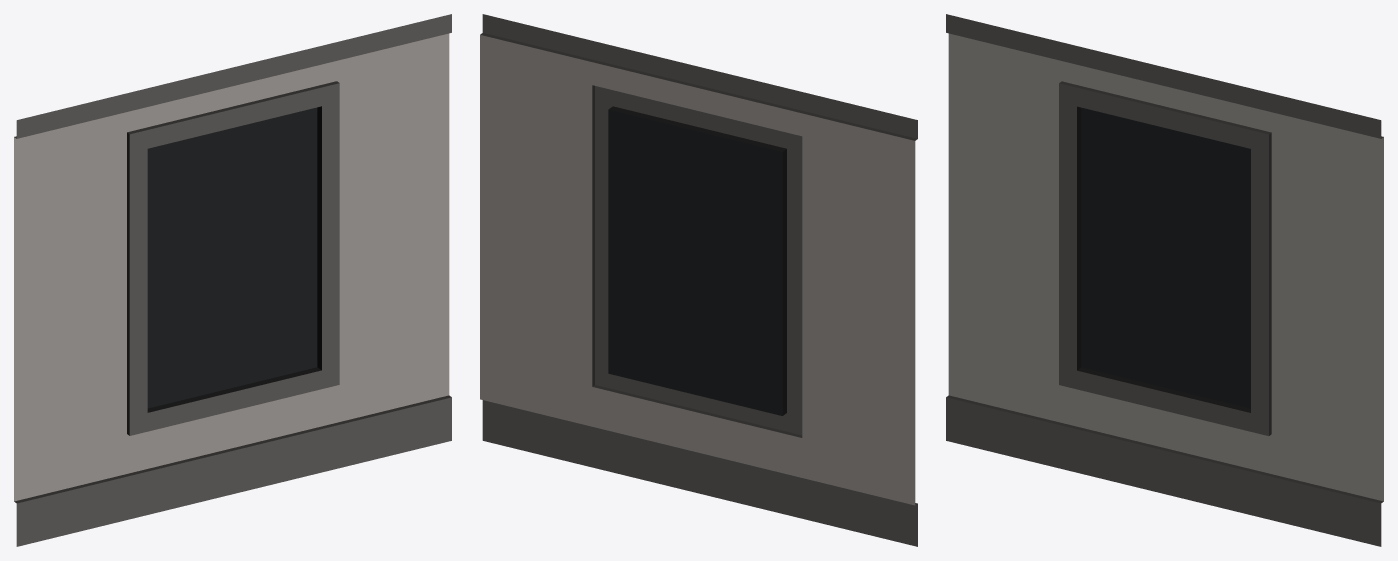
The model's file is Wall5.FBX.
3 renders of one model, left to right at view 1: azimuth 30°, elevation 25°; view 2: azimuth 150°, elevation 25°; view 3: azimuth 330°, elevation 25°, orthographic.
Visible parts, largest first — view 1: SM_Wall_Window_01; view 2: SM_Wall_Window_01; view 3: SM_Wall_Window_01.
Part boxes in pixels (box(x1,y1,x2,y2)): SM_Wall_Window_01: box(14, 14, 451, 546); SM_Wall_Window_01: box(480, 14, 917, 546); SM_Wall_Window_01: box(946, 14, 1383, 546).
Size of the model in its own units: 197 by 184 by 3.48.
